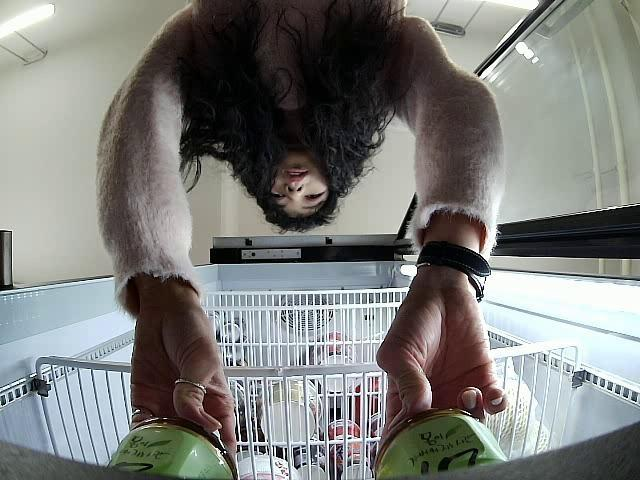19_17cha: (372, 404, 508, 480), (104, 417, 240, 480)
